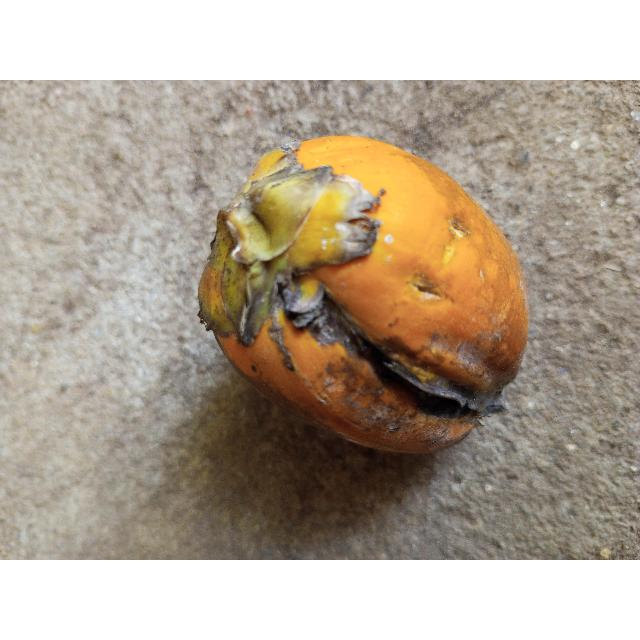damaged: (198, 135, 529, 456)
